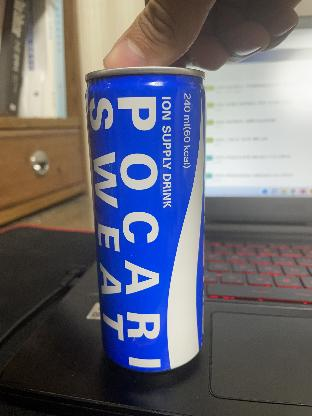Can: (84, 63, 209, 375)
